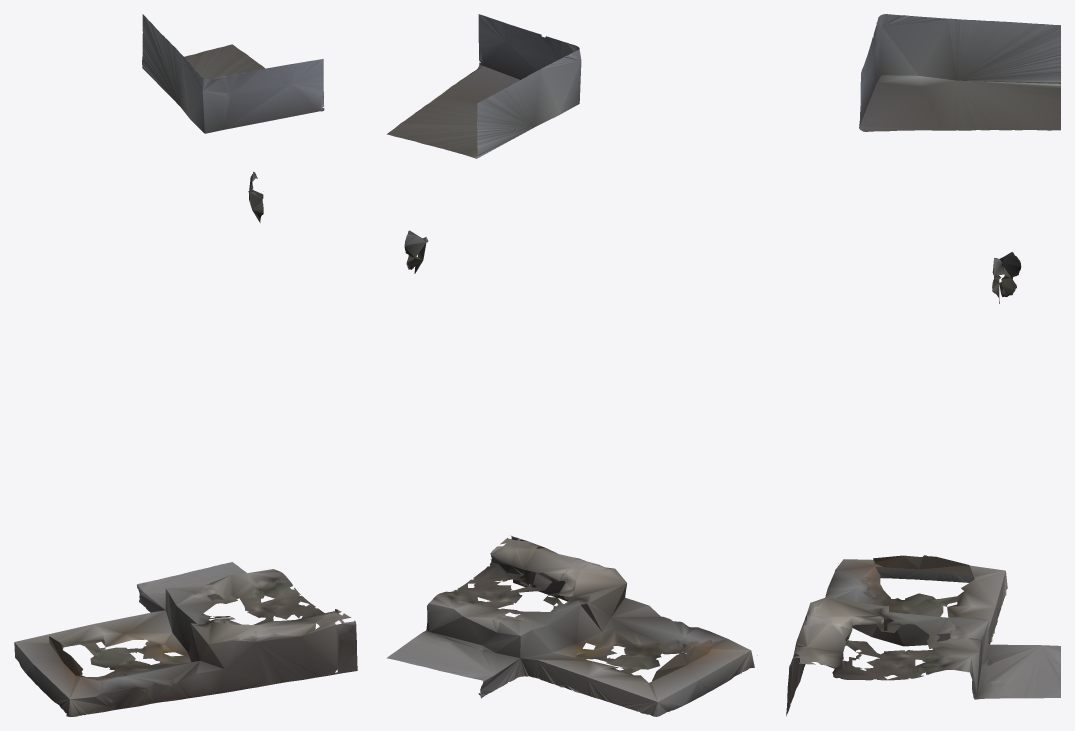
Rendered from coarse.glb.
3 renders of one model, left to right at view 1: azimuth 30°, elevation 25°; view 2: azimuth 150°, elevation 25°; view 3: azimuth 270°, elevation 25°, orthographic. The views are drawn at different scales.
Size of the model in its own units: 1.7 by 3.6 by 1.39.
